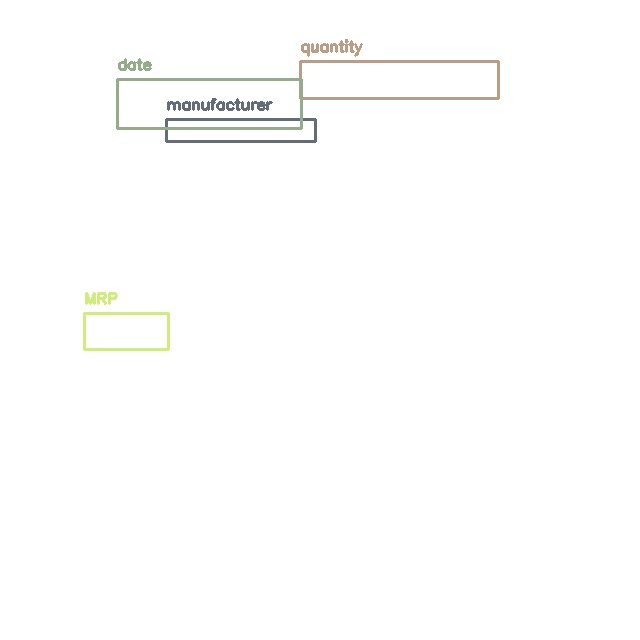MRP: (84, 313, 168, 349)
date: (117, 79, 301, 128)
manufacturer: (166, 119, 315, 141)
quantity: (300, 61, 498, 98)
